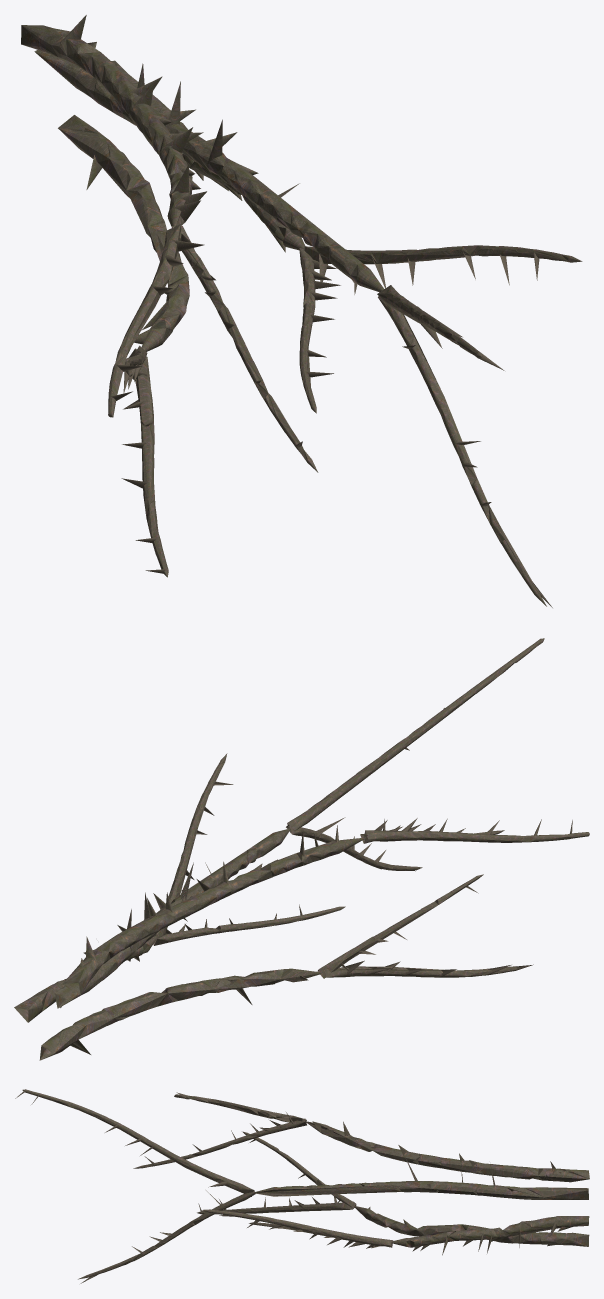
File: plant_pr10y.obj
3 renders of one model, top to bottom at view 1: azimuth 30°, elevation 25°; view 2: azimuth 150°, elevation 25°; view 3: azimuth 270°, elevation 25°, orthographic. The views are drawn at different scales.
Visible parts, largest first — view 1: PR10y; view 2: PR10y; view 3: PR10y.
Boxes of the visible parts, x1,y1,x2,y2 form: PR10y: (21, 15, 582, 607); PR10y: (14, 638, 589, 1060); PR10y: (15, 1089, 589, 1283).
Size of the model in its own units: 8.79 by 5.51 by 17.58.
1 material, 1 textured.
